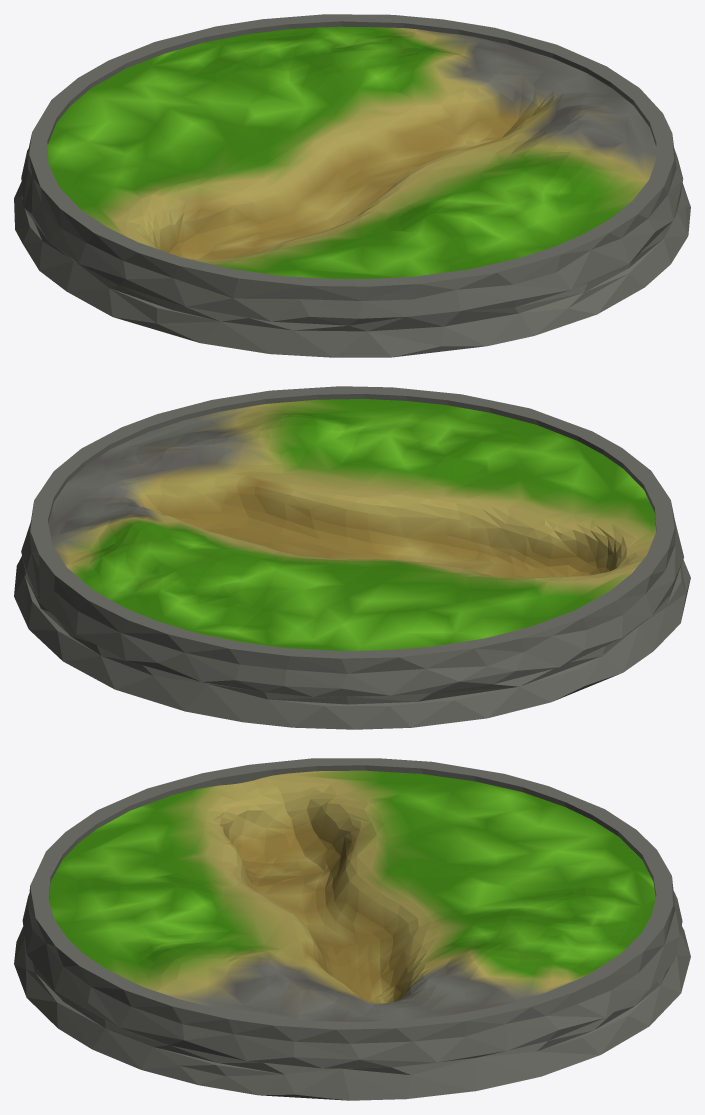
File: Pedestal_Water.FBX
3 renders of one model, top to bottom at view 1: azimuth 30°, elevation 25°; view 2: azimuth 150°, elevation 25°; view 3: azimuth 270°, elevation 25°, orthographic.
Parts seen in each view (by area): view 1: Ground, Pedestal; view 2: Ground, Pedestal; view 3: Ground, Pedestal.
Boxes of the visible parts, box(x1,y1,x2,y2) form: Ground: box(47, 26, 656, 278); Pedestal: box(14, 14, 690, 357); Ground: box(48, 399, 655, 651); Pedestal: box(14, 386, 690, 729); Ground: box(49, 770, 655, 1021); Pedestal: box(14, 758, 690, 1100).
Size of the model in its own units: 1804 by 226 by 1807.
